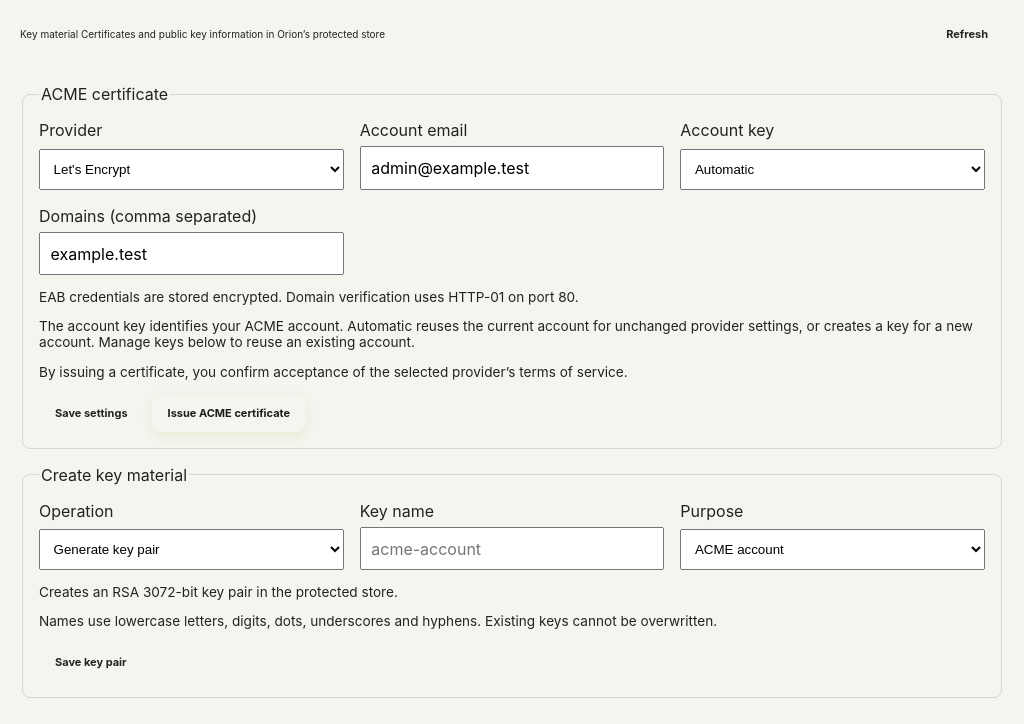
Test: imports a key and clears the private input even when the request fails
Select "Import private key" in the dropdown named "Key operation" at (191, 550), box left=39, top=529, right=344, bottom=570
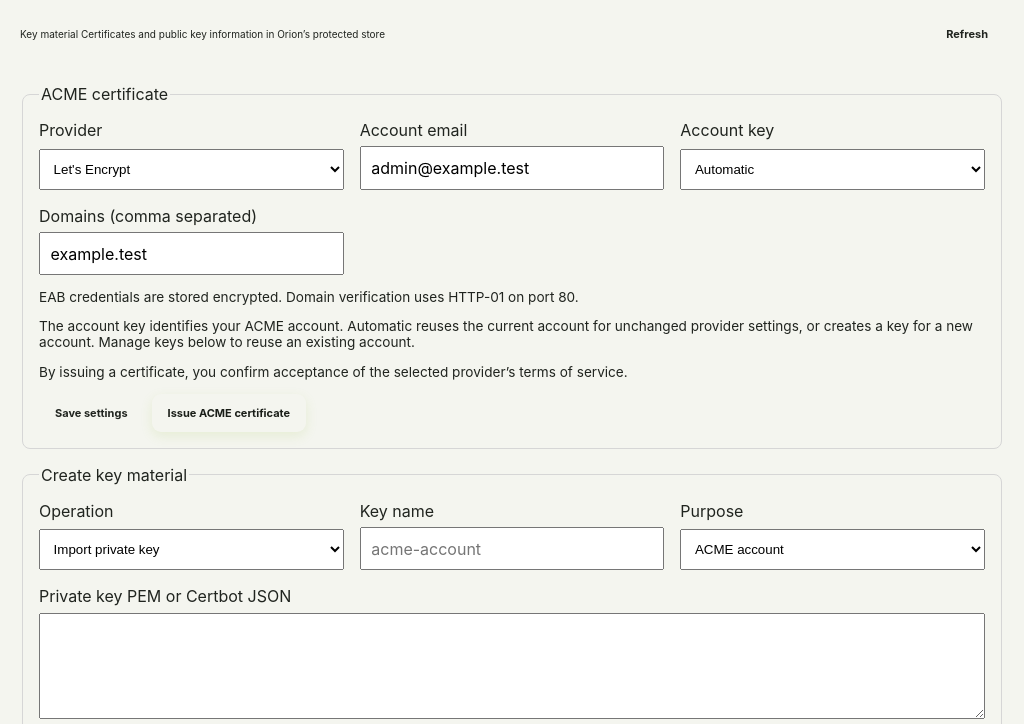
Type "imported" into the field named "Key name".
click(512, 548); type("imported")  # box left=360, top=527, right=664, bottom=570
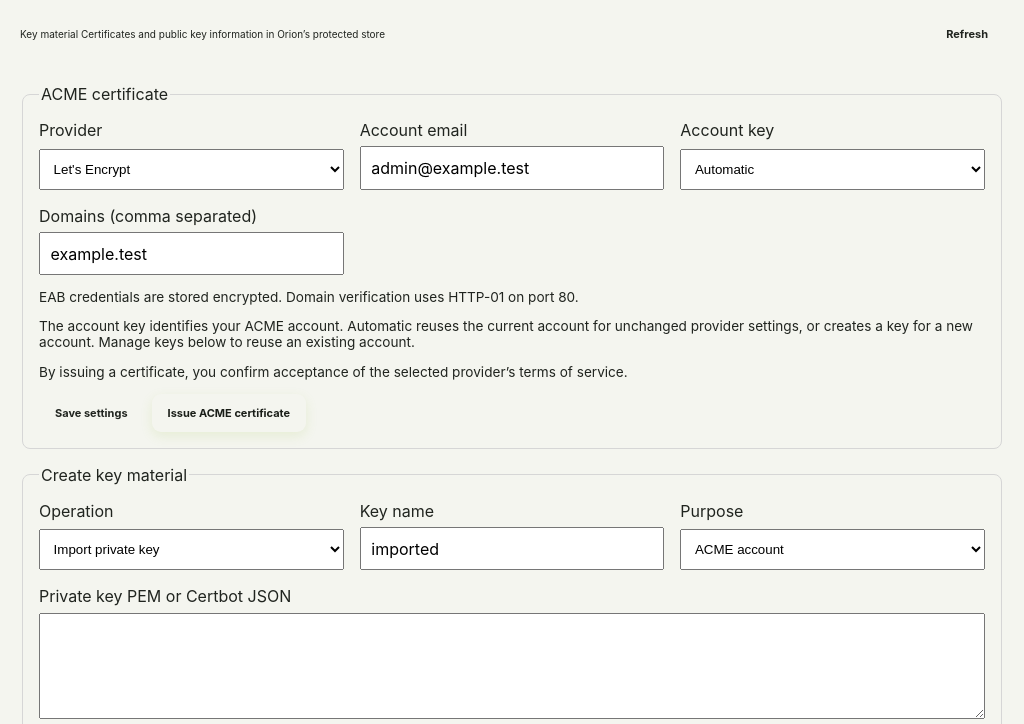
Type "secret-pem" into the text box named "Private key PEM or Certbot JSON".
click(512, 666); type("secret-pem")  # box left=39, top=612, right=985, bottom=718
(page scrolled)
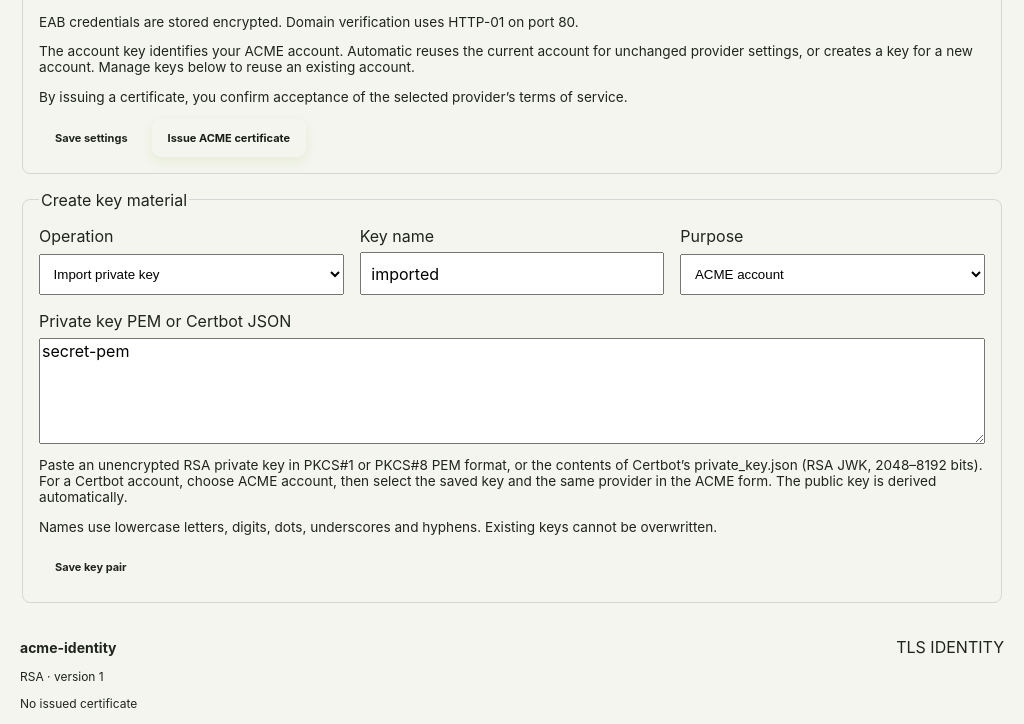
Submit the form named "Create key material", box left=20, top=190, right=1004, bottom=603
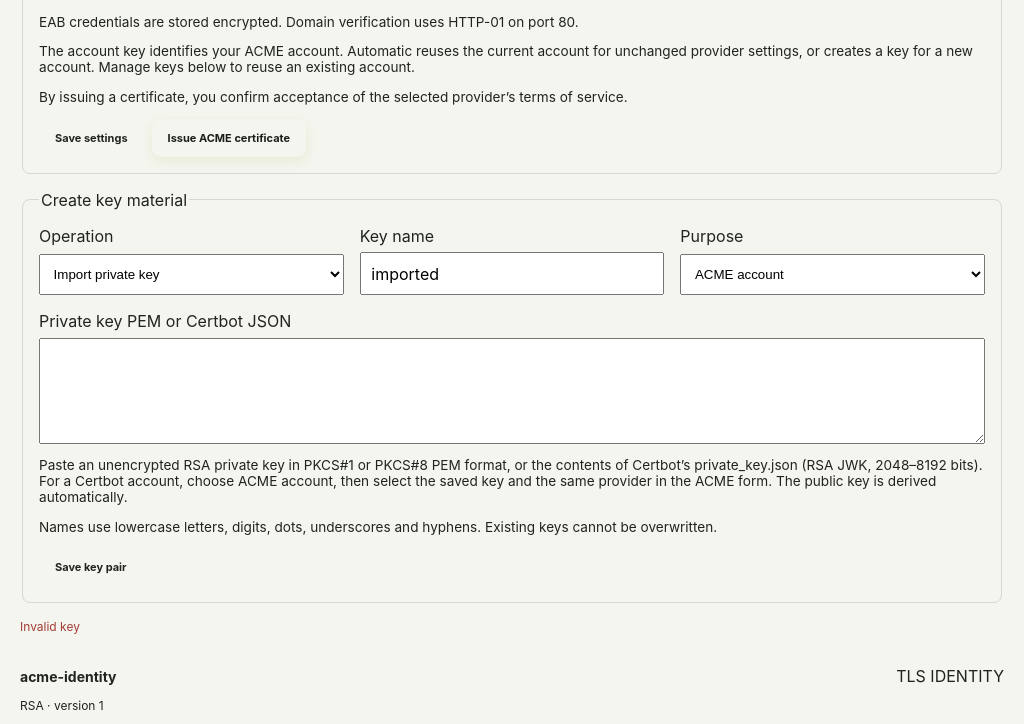
Result: the text box named "Private key PEM or Certbot JSON" is empty at left=39, top=338, right=985, bottom=444
Result: the text "Invalid key" is shown at left=20, top=619, right=80, bottom=634
